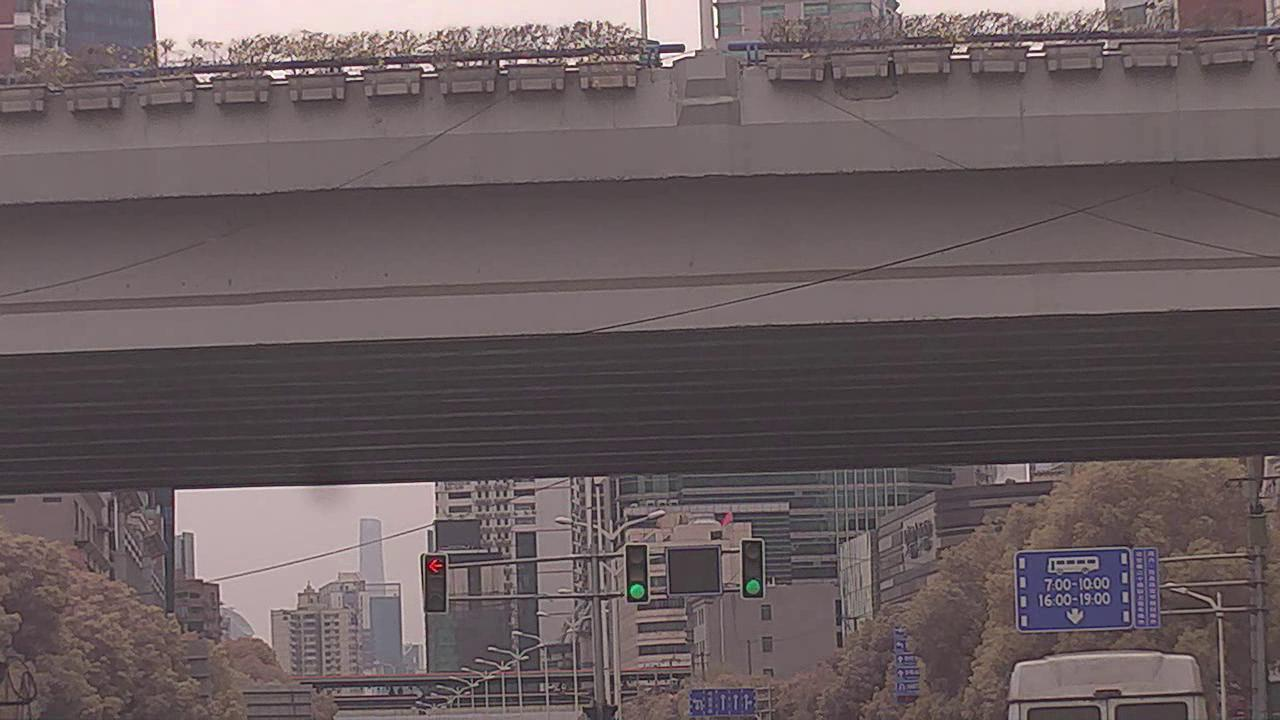traffic_light: (624, 544, 651, 604), (740, 538, 765, 598), (423, 552, 446, 613)
